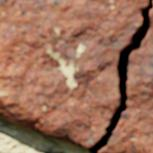brick: (0, 0, 149, 148), (98, 0, 152, 152)
crack: (88, 0, 151, 152)
